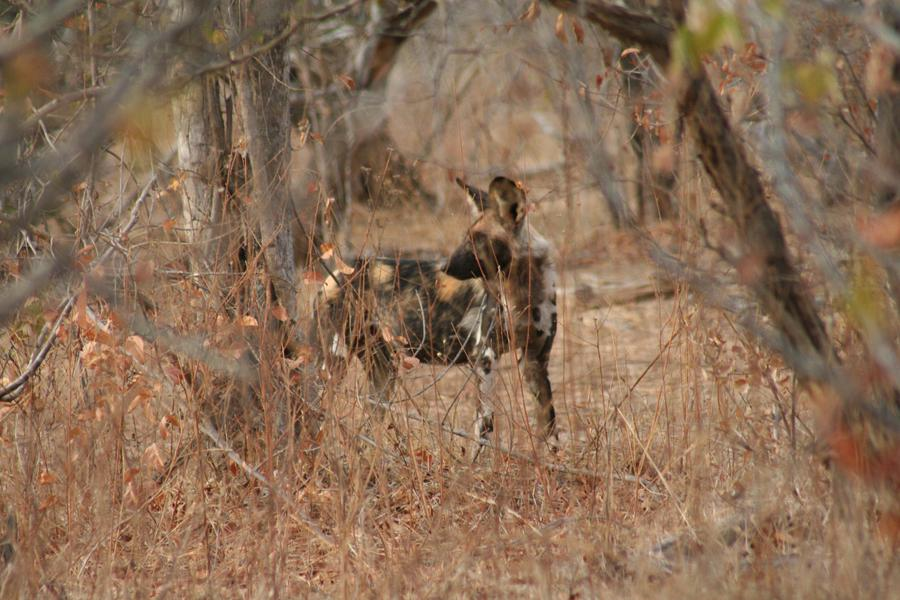wilddog: (352, 183, 556, 387)
